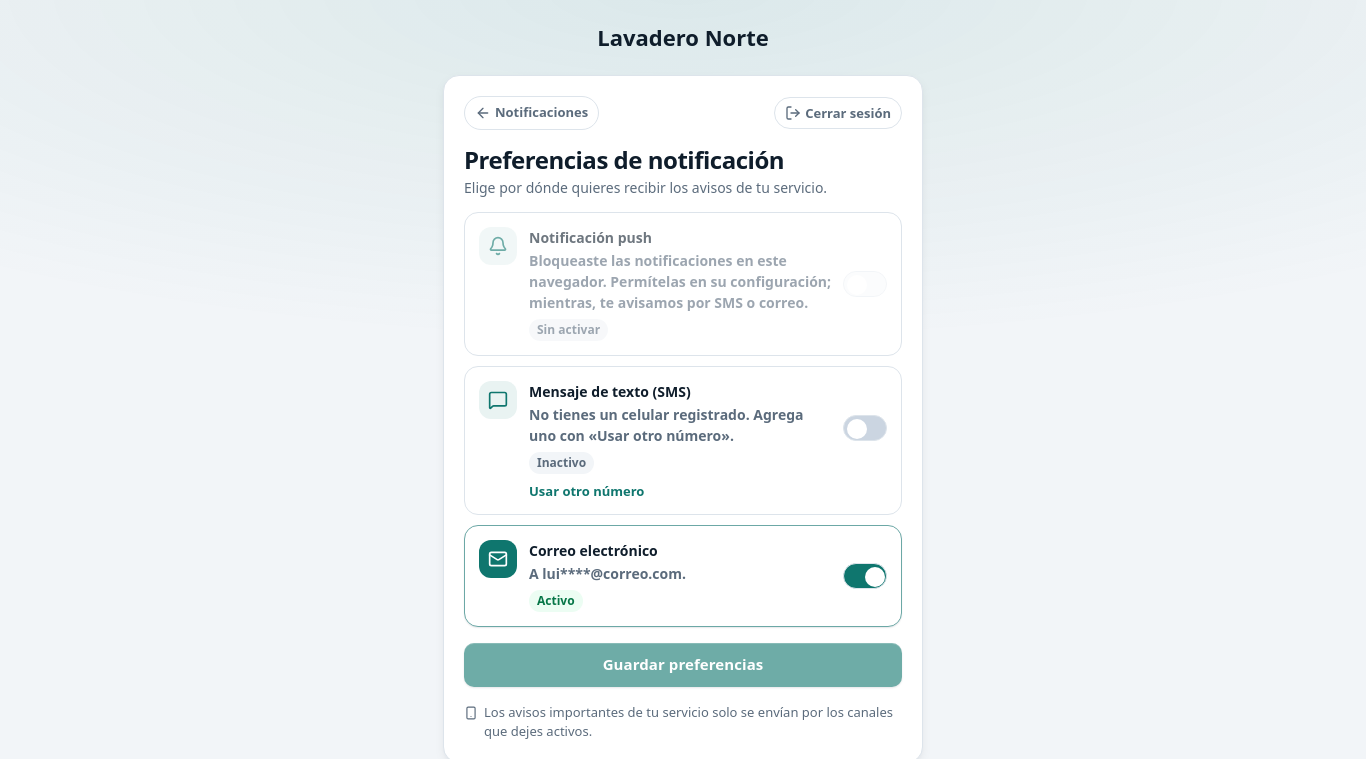
Test: HU-29 · pantalla de preferencias › CA2: sin celular registrado, activar el sms pide validar un número y solo entonces lo activa
This screenshot has width=1366, height=759.
Expected: the heading "Preferencias de notificación" is shown, [464, 142, 784, 176]
Click the switch labelled "Mensaje de texto (SMS)" at (865, 428), box [843, 415, 887, 441]
(page scrolled)
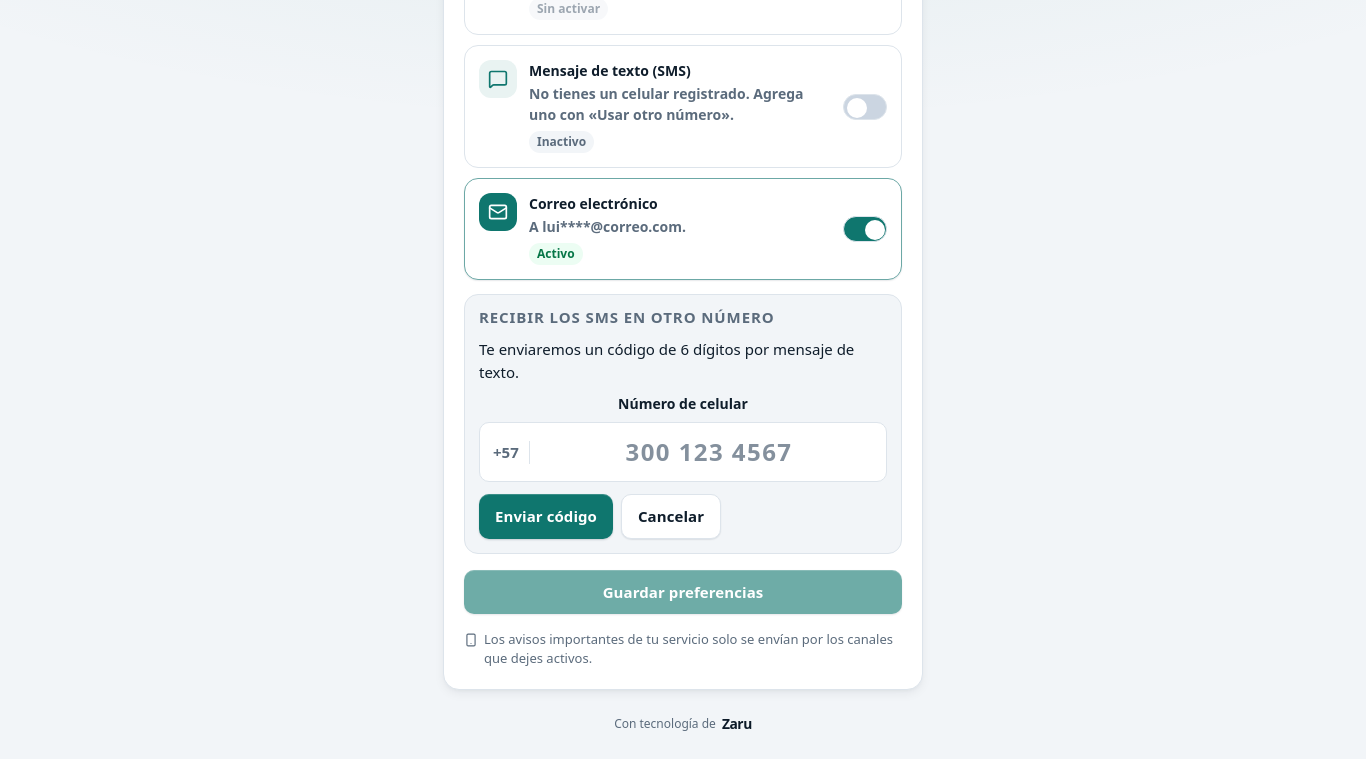
Expected: the switch labelled "Mensaje de texto (SMS)" is not checked, [843, 94, 887, 120]
Now the heading "Recibir los SMS en otro número" is shown, box [479, 307, 775, 327]
Type "310 999 8877" into the field labelled "Número de celular" at (683, 452), box [479, 422, 887, 482]
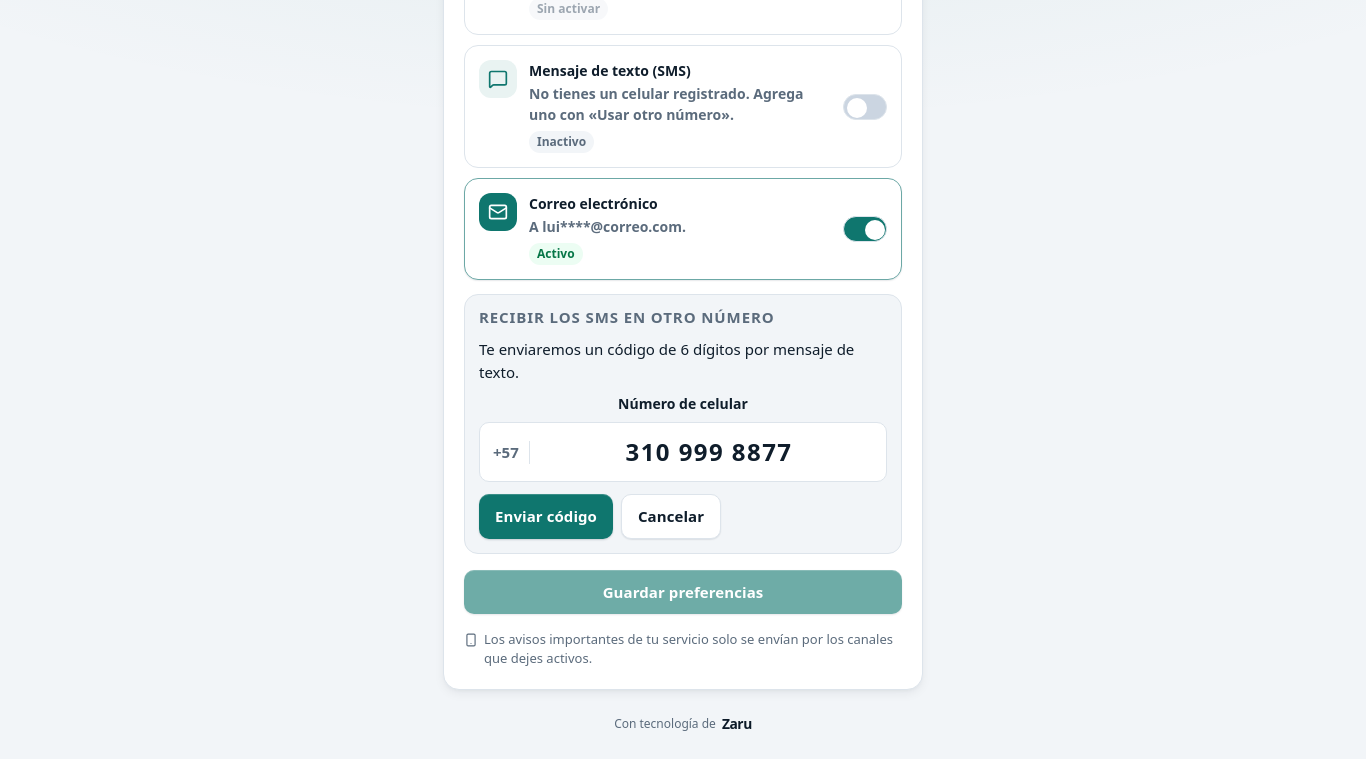
Click the button "Enviar código" at (546, 517), box [479, 494, 613, 539]
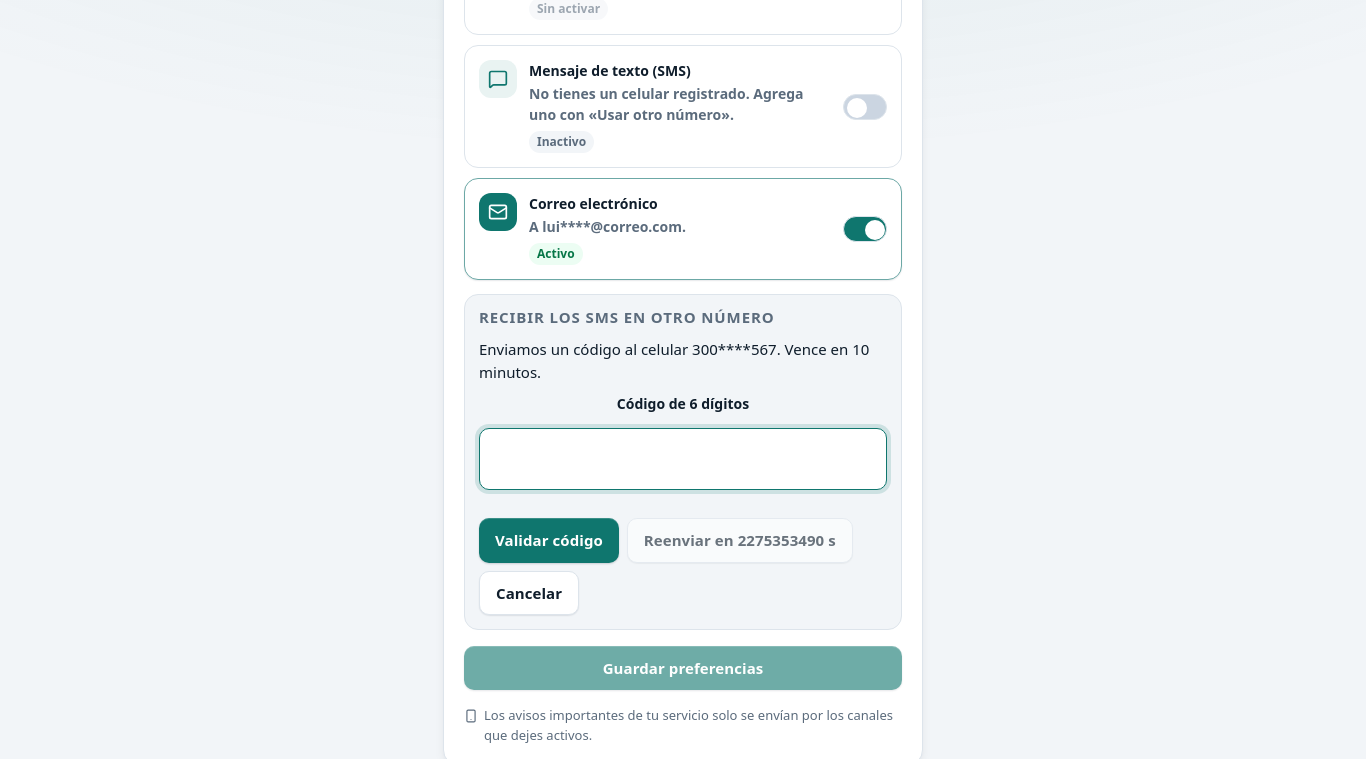
Now the field labelled "Código de 6 dígitos" is shown
Type "12ab3456" into the field labelled "Código de 6 dígitos" at (683, 459), box [479, 428, 887, 490]
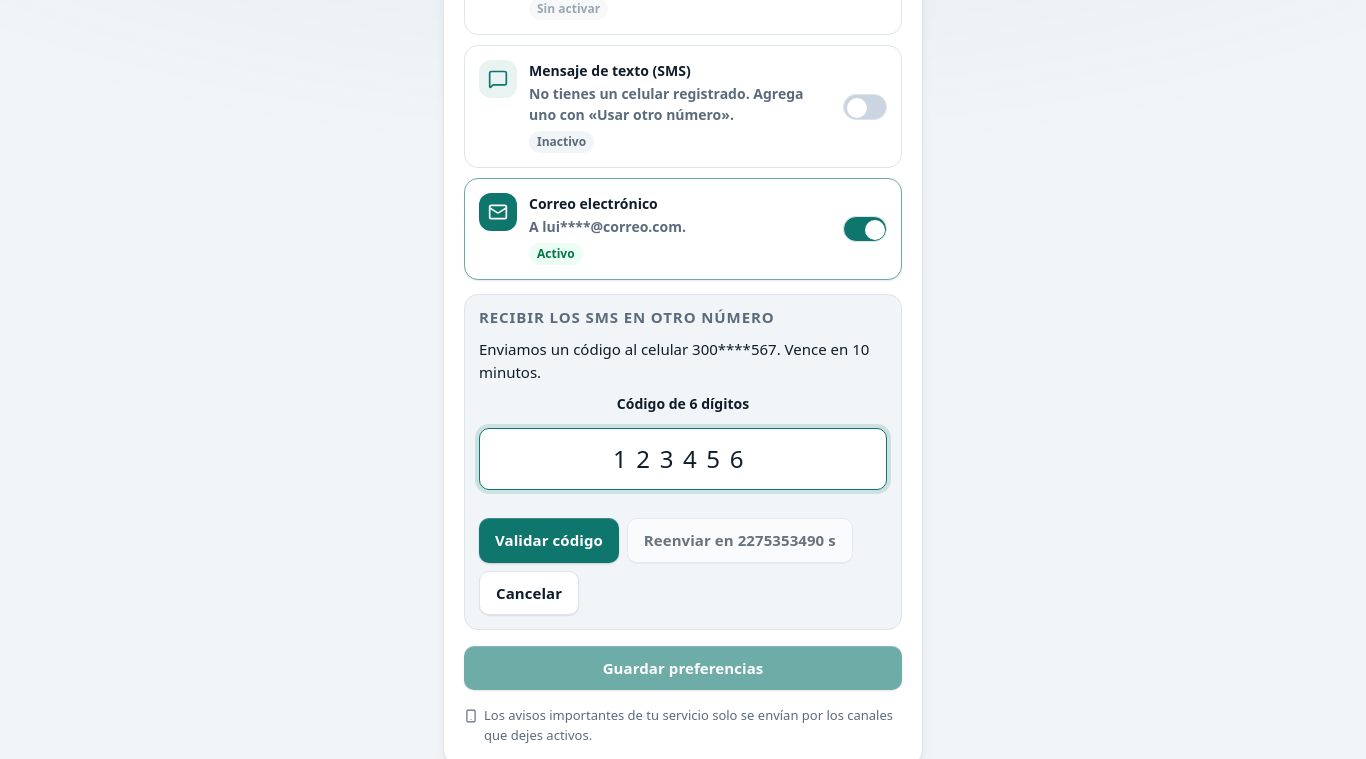
Now the field labelled "Código de 6 dígitos" holds "123456", box [479, 428, 887, 490]
Click the button "Validar código" at (549, 541), box [479, 518, 619, 563]
(page scrolled)
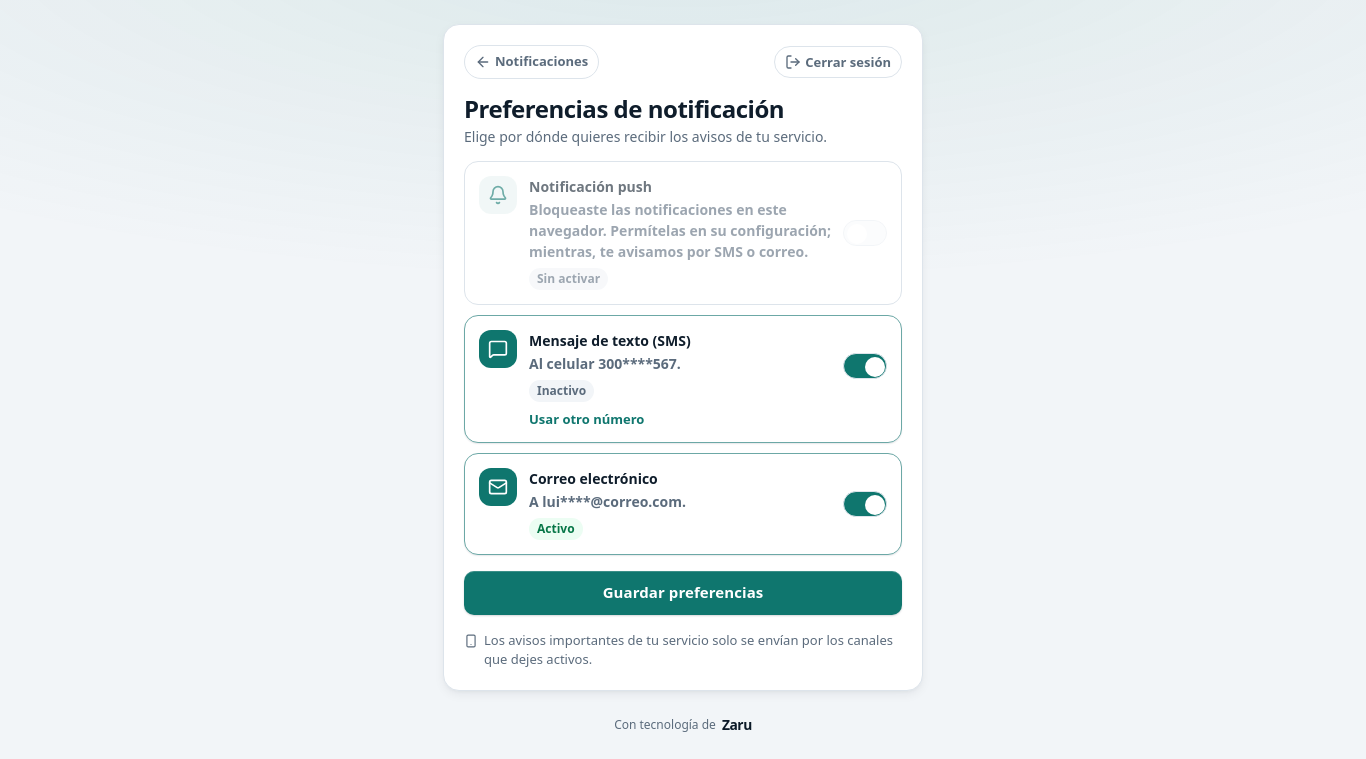
Now the switch labelled "Mensaje de texto (SMS)" is checked, box [843, 353, 887, 379]
Now the heading "Recibir los SMS en otro número" is gone
